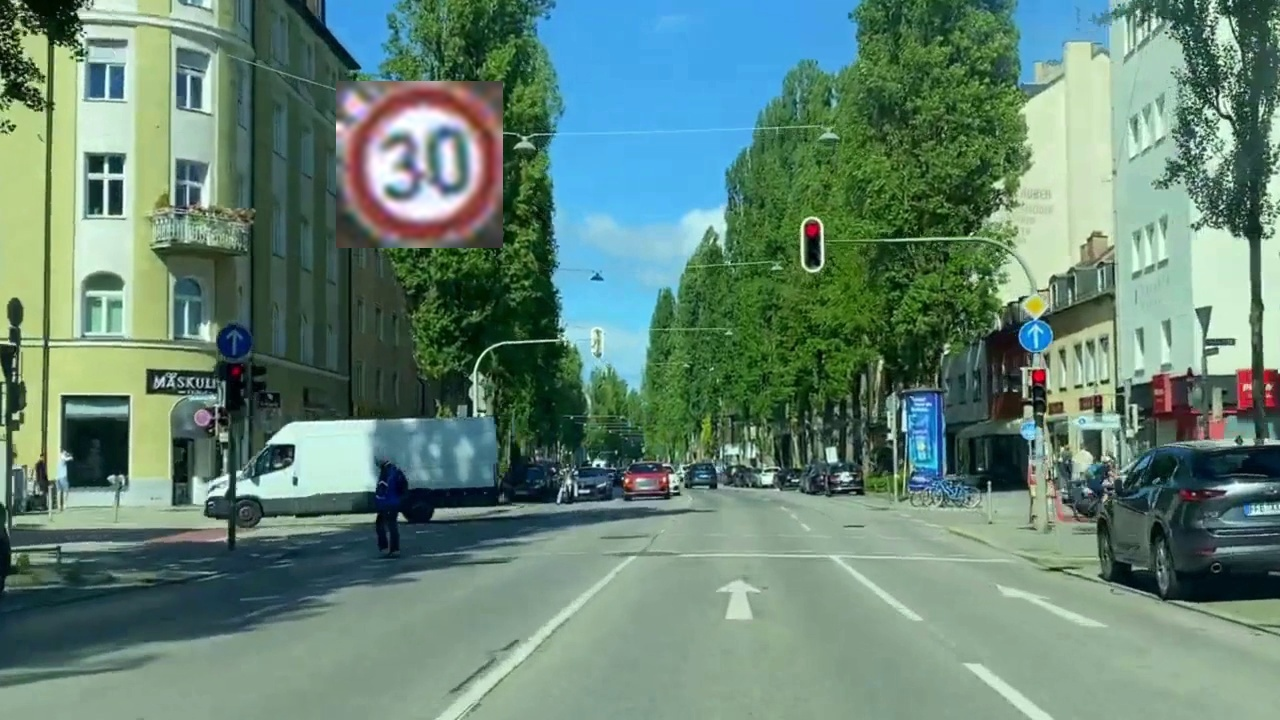Speed 30: (336, 81, 503, 248)
